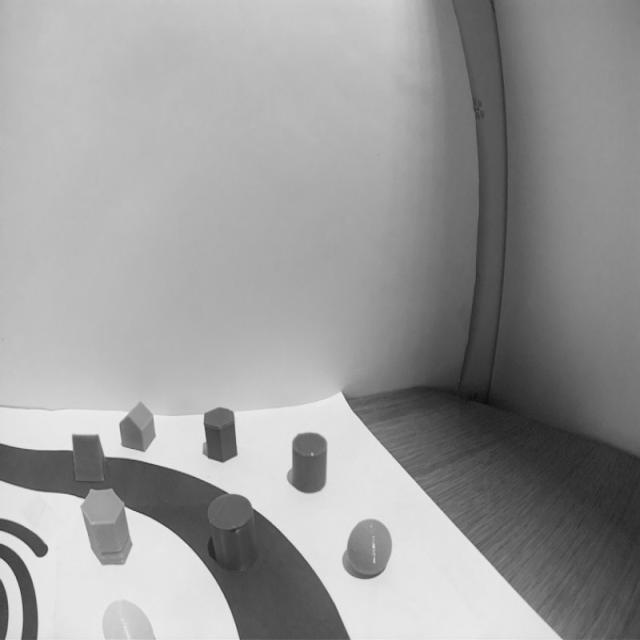ball: (346, 516, 392, 582), (101, 598, 156, 640)
cylinder: (207, 492, 261, 570), (289, 430, 329, 494)
hexagon: (80, 487, 132, 566), (204, 408, 238, 463)
home: (118, 401, 156, 453)
laneLeftTurn: (52, 447, 359, 640)
triangle: (72, 434, 106, 483)
